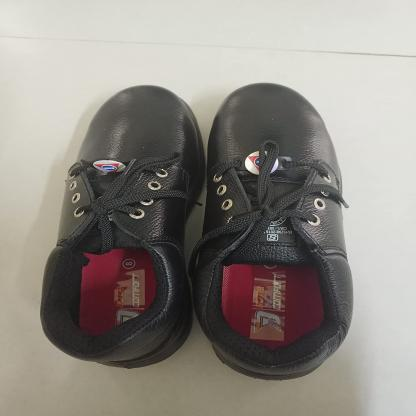bota: (193, 78, 359, 385), (36, 82, 209, 373)
